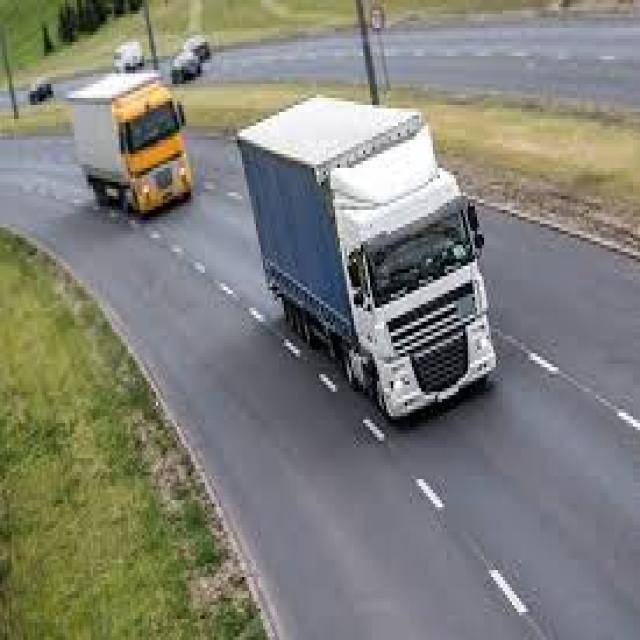covered: (233, 88, 498, 420), (70, 72, 192, 218)
